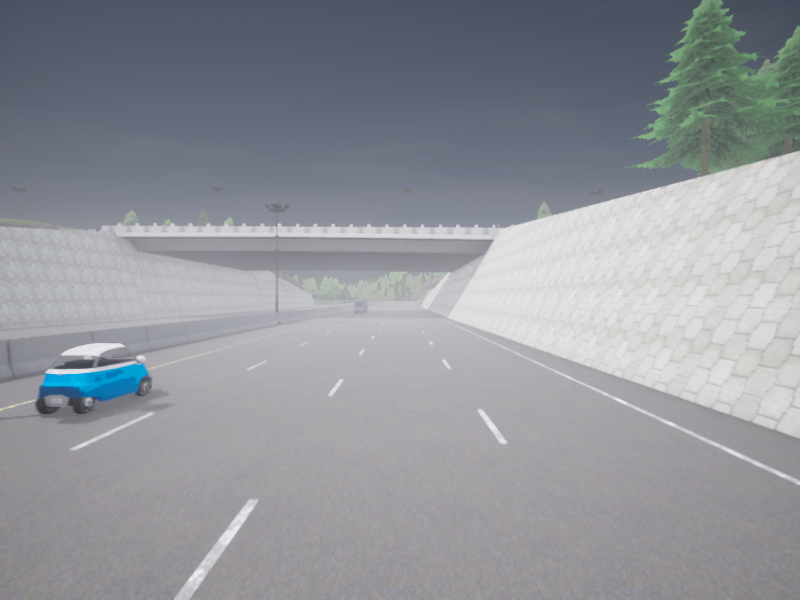vehicle: (36, 344, 151, 414), (354, 299, 367, 313)
